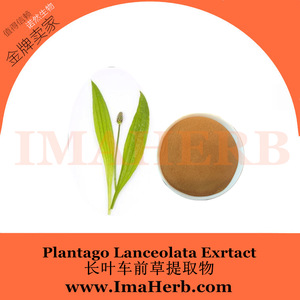buckhorn plantain: (81, 76, 153, 204)
